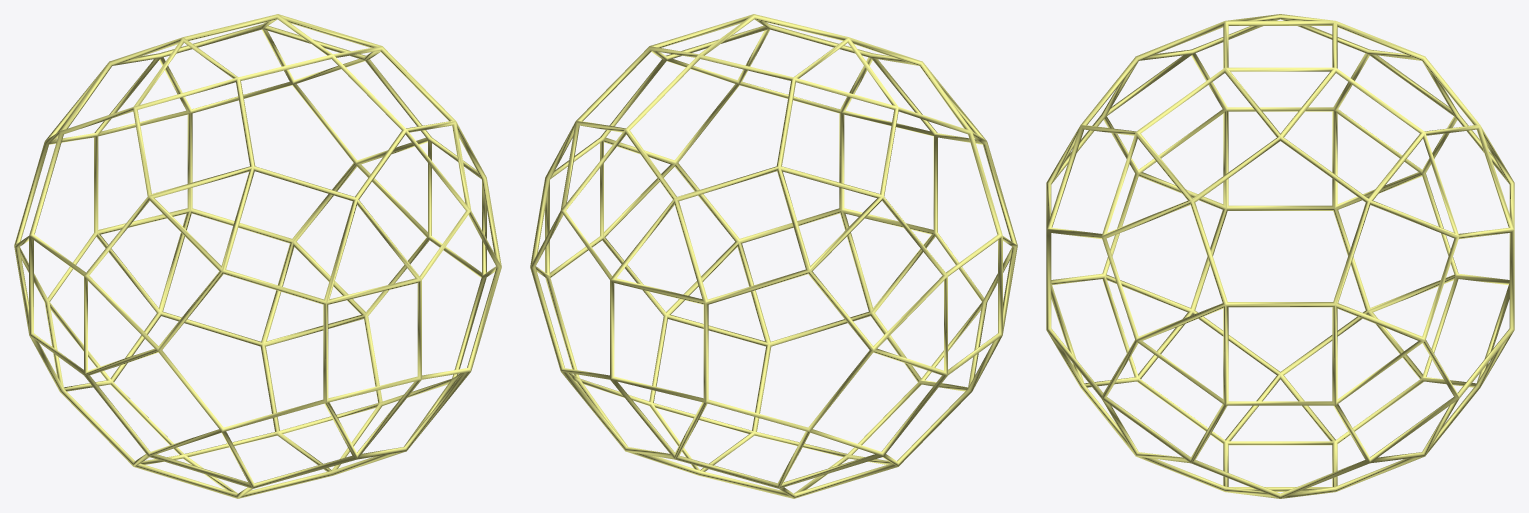
The model's file is Rhombicosidodecahedron1.glb.
The picture shows the model from 3 angles, left to right: view 1: azimuth 30°, elevation 25°; view 2: azimuth 150°, elevation 25°; view 3: azimuth 270°, elevation 25°; orthographic projection.
Parts seen in each view (by area): view 1: Rhombicosidodecahedron; view 2: Rhombicosidodecahedron; view 3: Rhombicosidodecahedron.
Boxes of the visible parts, bbox=[...] form: Rhombicosidodecahedron: bbox=[14, 14, 501, 498]; Rhombicosidodecahedron: bbox=[530, 14, 1017, 498]; Rhombicosidodecahedron: bbox=[1046, 14, 1514, 498].
Size of the model in its own units: 4.28 by 4.28 by 4.28.
